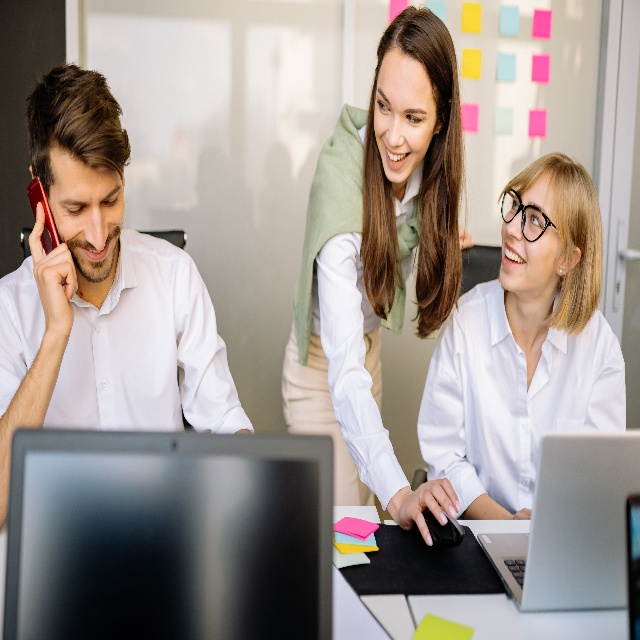Gafas: (501, 184, 560, 242)
Sin_guantes: (26, 202, 79, 336), (397, 479, 463, 546)
